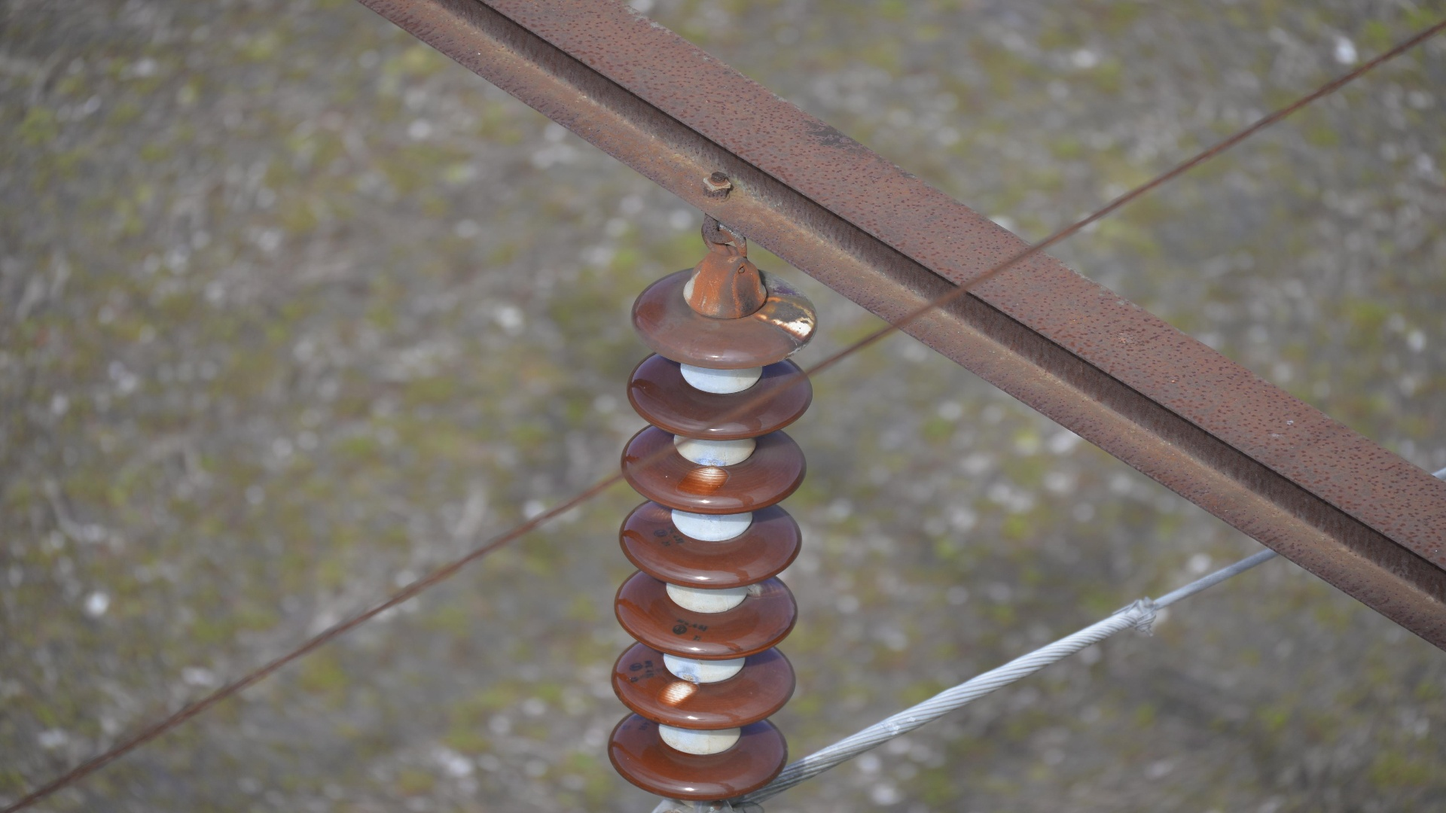insulator: (602, 262, 825, 805)
